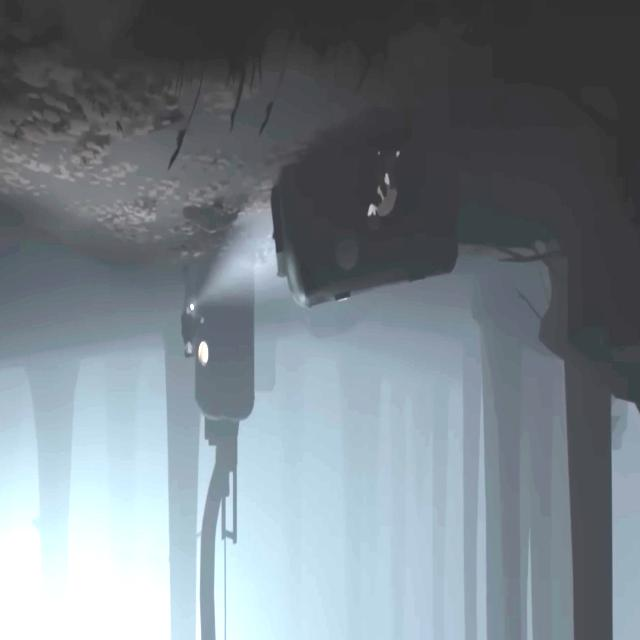boy: (367, 146, 402, 230)
